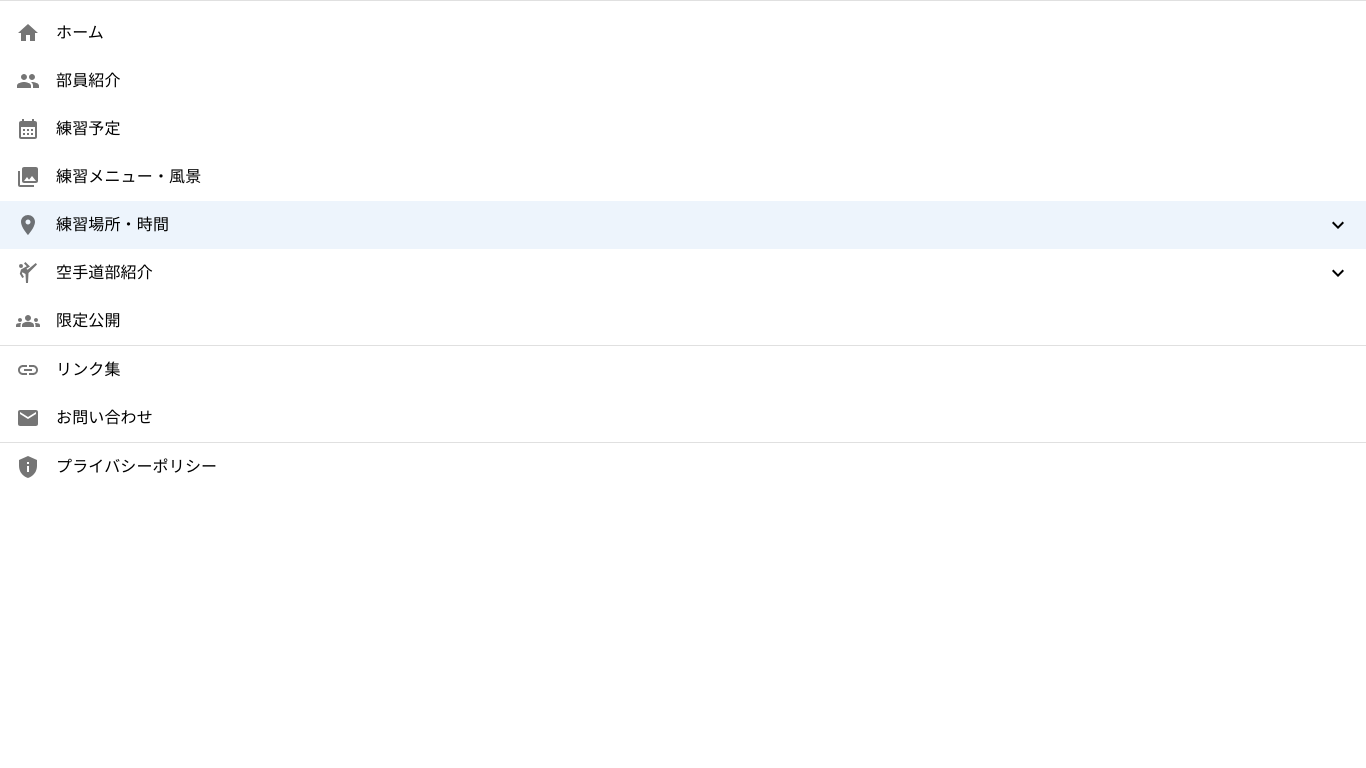
Test: Menu › open introduction
Click the link with test id "karatedo" at (104, 272), box [16,261,1350,285]
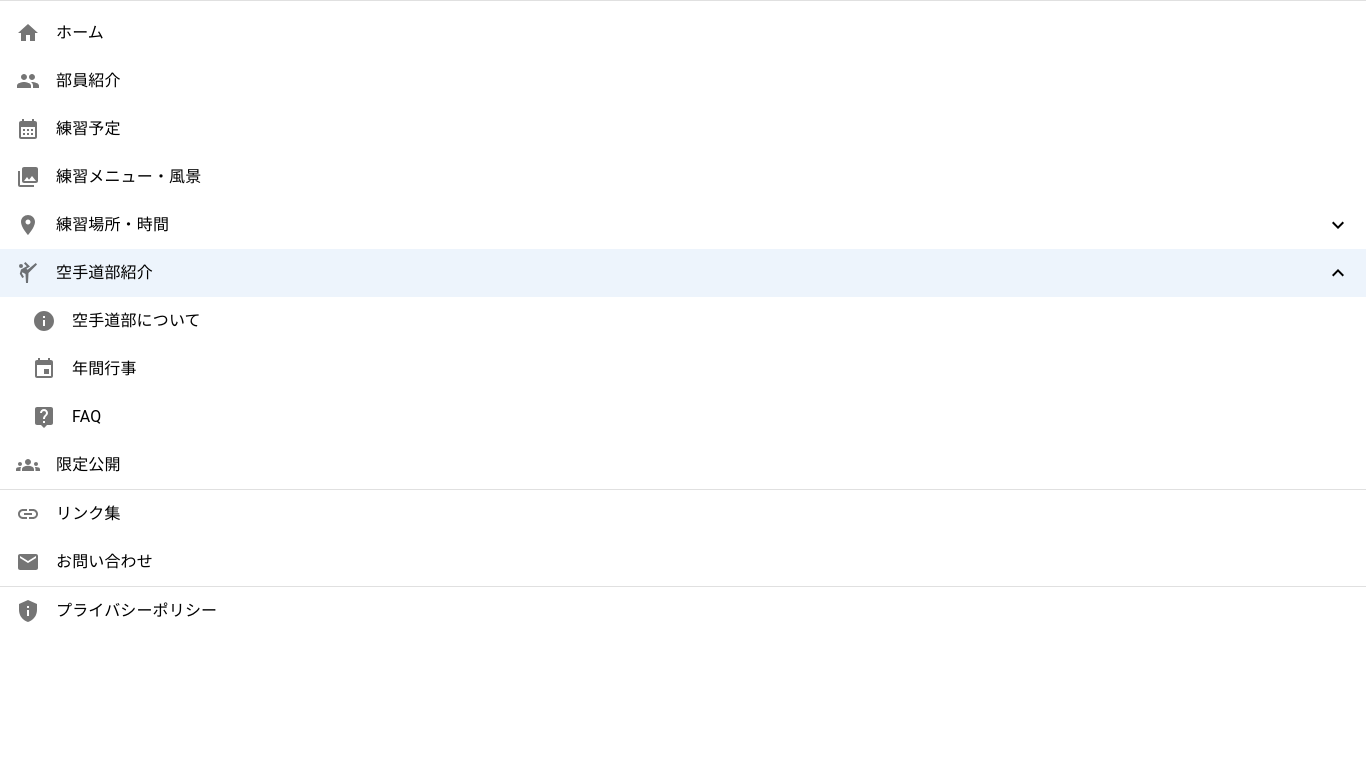
Check: the link with test id "about" is shown, box [32,309,201,333]
Check: the link with test id "annualEvents" is shown, box [32,357,137,381]
Check: the link with test id "faq" is shown, box [32,405,101,429]
